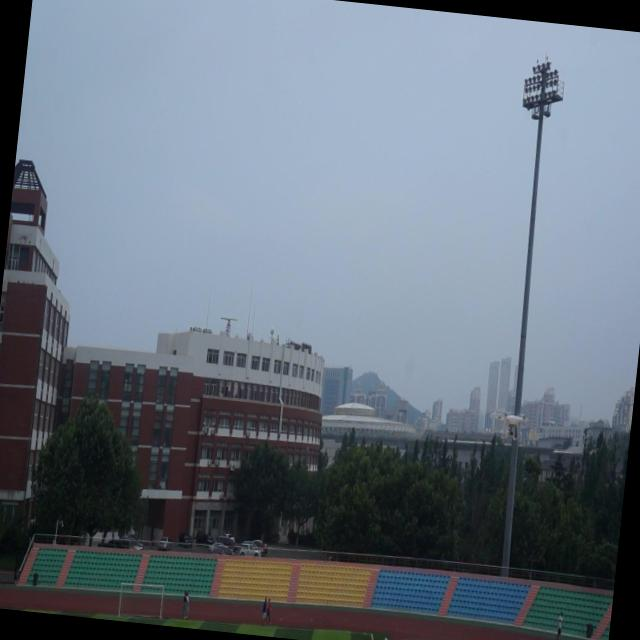drone: (486, 406, 532, 444)
